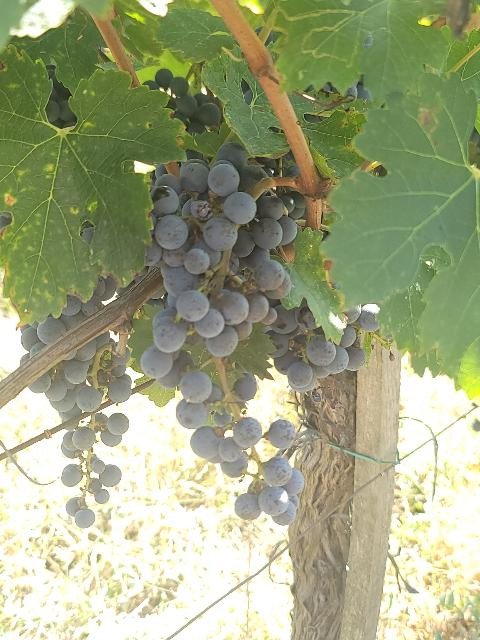grapes: (140, 319, 300, 522), (152, 141, 298, 352), (51, 365, 132, 529)
